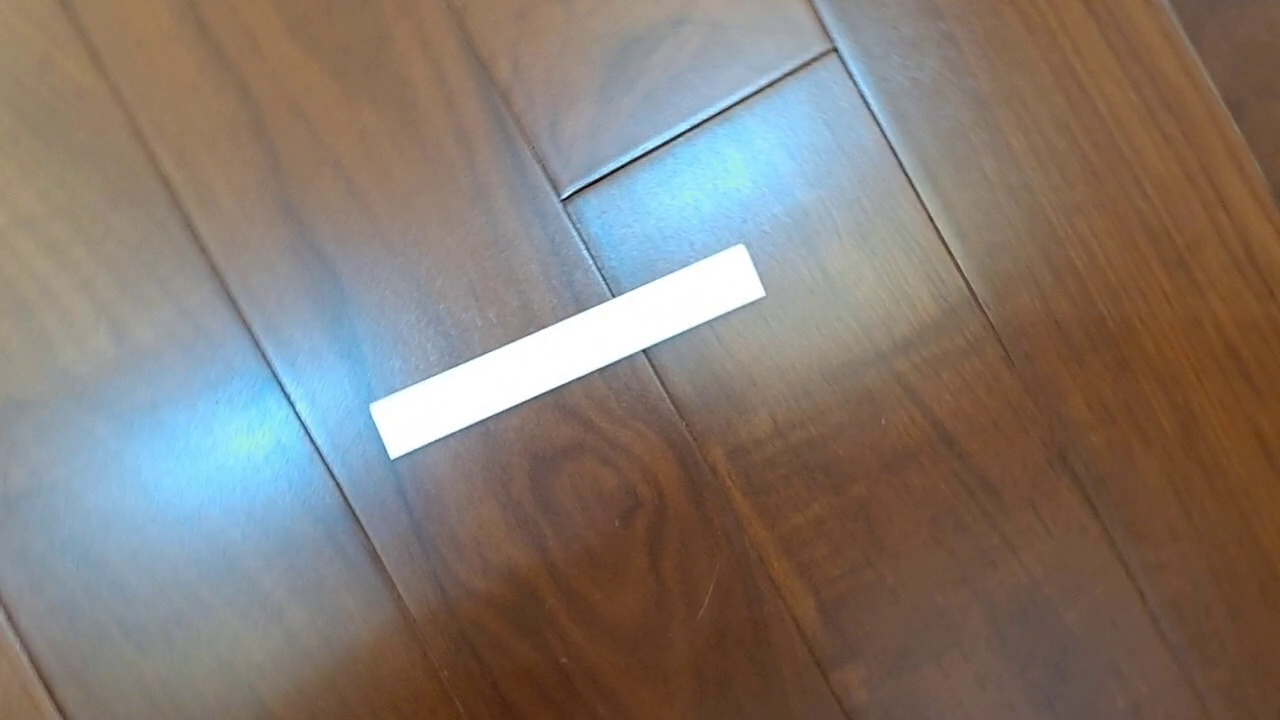ruler: (366, 241, 769, 463)
